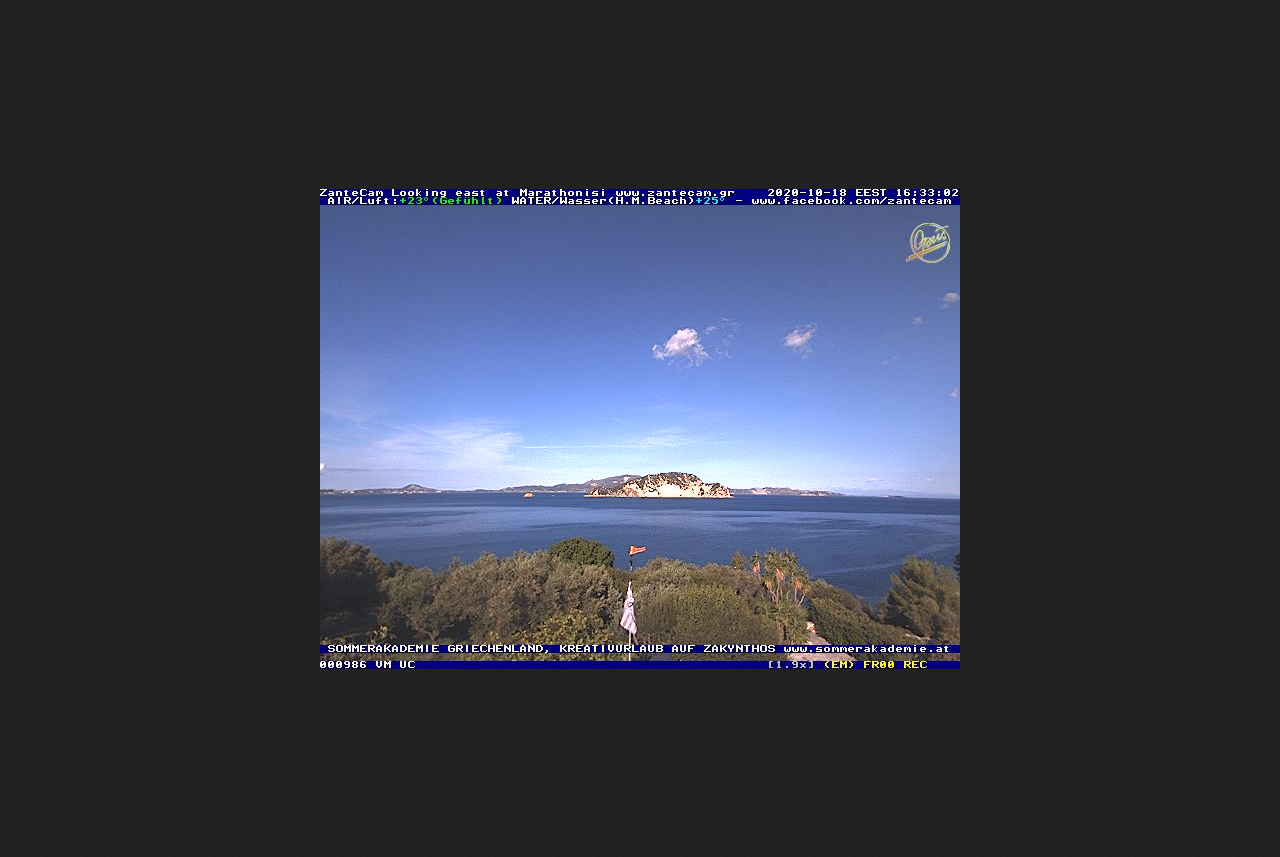no: (616, 580, 645, 638)
